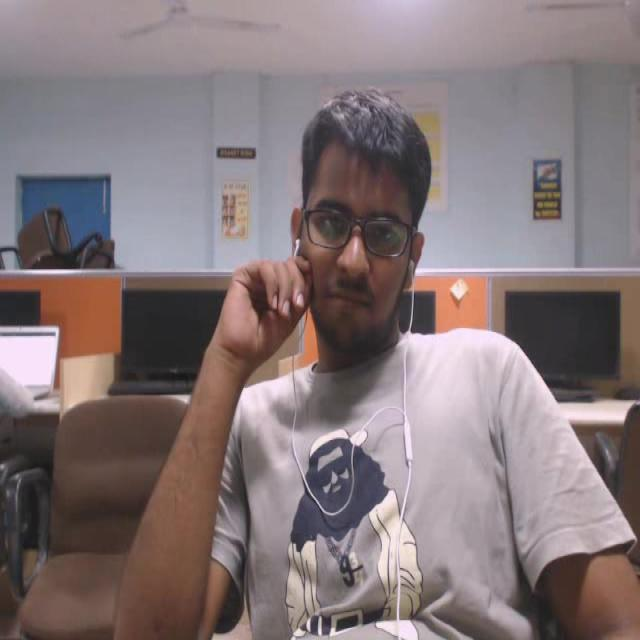Engaged: (288, 79, 444, 410)
